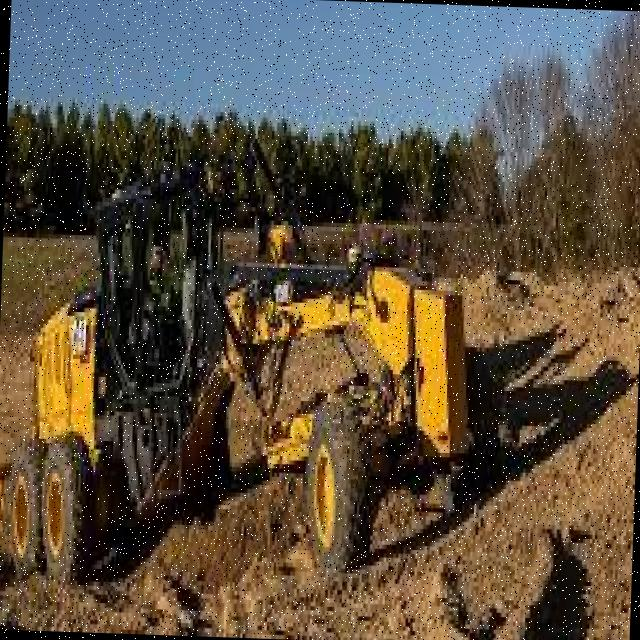Grader: (0, 133, 510, 620)
